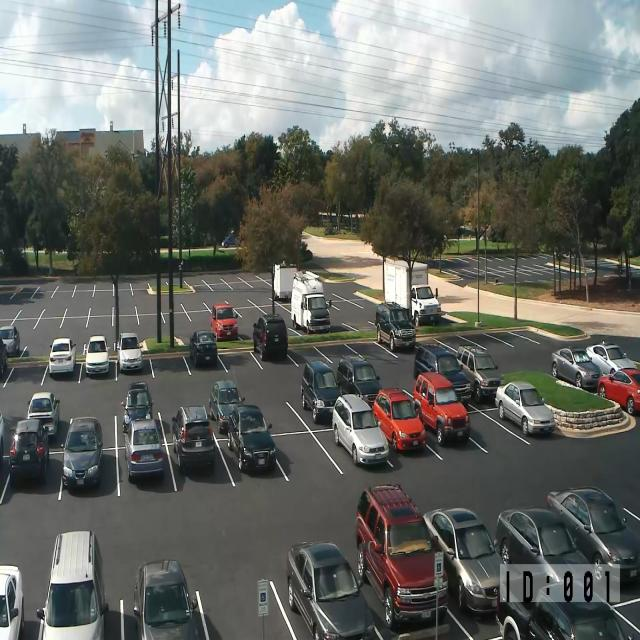car: (355, 483, 449, 630), (494, 506, 604, 604), (546, 486, 640, 584), (286, 540, 374, 640), (422, 507, 503, 615), (496, 574, 628, 640), (36, 530, 109, 639), (133, 558, 210, 640), (414, 371, 471, 446), (332, 393, 389, 466), (527, 599, 626, 640), (413, 343, 472, 402), (373, 387, 426, 452), (494, 381, 556, 436), (227, 404, 276, 472), (60, 416, 103, 489), (171, 405, 216, 473), (456, 345, 504, 403), (123, 416, 165, 482), (300, 359, 342, 424), (9, 418, 49, 483), (551, 346, 604, 391), (337, 355, 382, 408), (597, 368, 640, 416), (375, 301, 416, 351), (208, 379, 245, 433), (586, 340, 637, 376), (120, 381, 154, 434), (0, 564, 24, 639), (252, 313, 288, 361), (26, 391, 60, 438), (411, 283, 441, 327), (610, 596, 640, 640), (83, 335, 110, 376), (210, 303, 238, 342), (189, 330, 217, 368), (49, 337, 76, 376), (116, 333, 143, 372), (0, 324, 20, 356), (221, 230, 239, 248), (300, 238, 312, 262), (0, 339, 7, 378), (0, 409, 4, 465), (300, 238, 308, 251)
